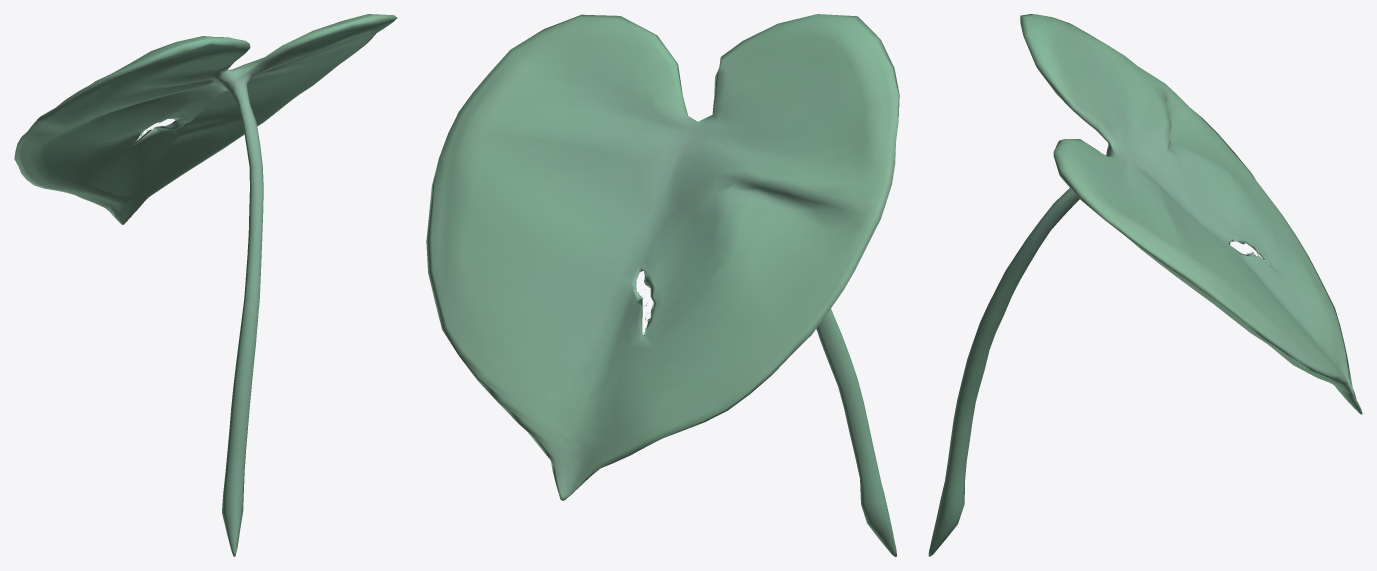
The model's file is monstera_leaf_mid1.glb.
3 renders of one model, left to right at view 1: azimuth 30°, elevation 25°; view 2: azimuth 150°, elevation 25°; view 3: azimuth 270°, elevation 25°, orthographic. The views are drawn at different scales.
Visible parts, largest first — view 1: tripo_node_d66a25f3-8f1d-40b1-9092-276e9f903e32; view 2: tripo_node_d66a25f3-8f1d-40b1-9092-276e9f903e32; view 3: tripo_node_d66a25f3-8f1d-40b1-9092-276e9f903e32.
Part boxes in pixels (x1,y1,x2,y2): tripo_node_d66a25f3-8f1d-40b1-9092-276e9f903e32: [14, 14, 397, 556]; tripo_node_d66a25f3-8f1d-40b1-9092-276e9f903e32: [426, 14, 899, 556]; tripo_node_d66a25f3-8f1d-40b1-9092-276e9f903e32: [928, 14, 1362, 556].
Size of the model in its own units: 0.753 by 0.9952 by 0.7303.
1 material, 1 textured.
